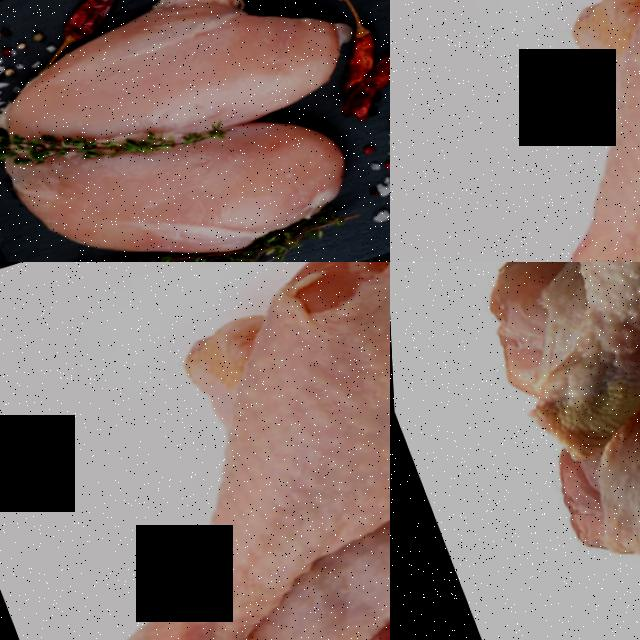chicken breast: (0, 0, 390, 262)
chicken thigh: (10, 262, 390, 640), (398, 0, 640, 262), (447, 262, 640, 449), (547, 381, 640, 640)
